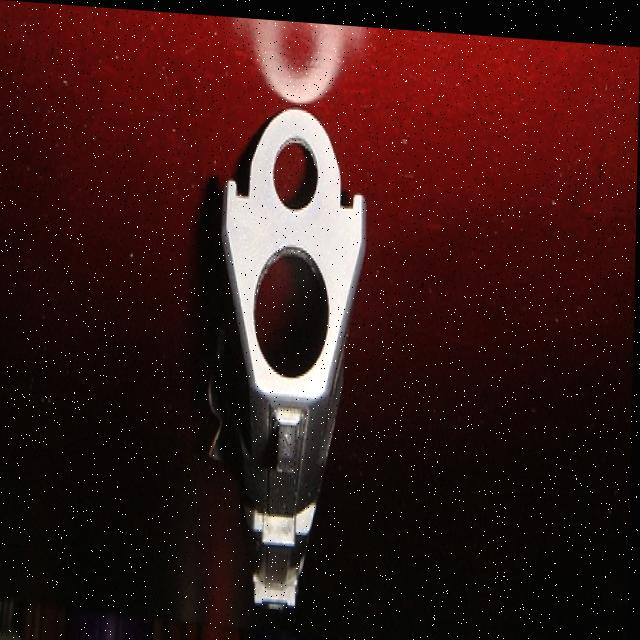pistol: (205, 93, 372, 618)
